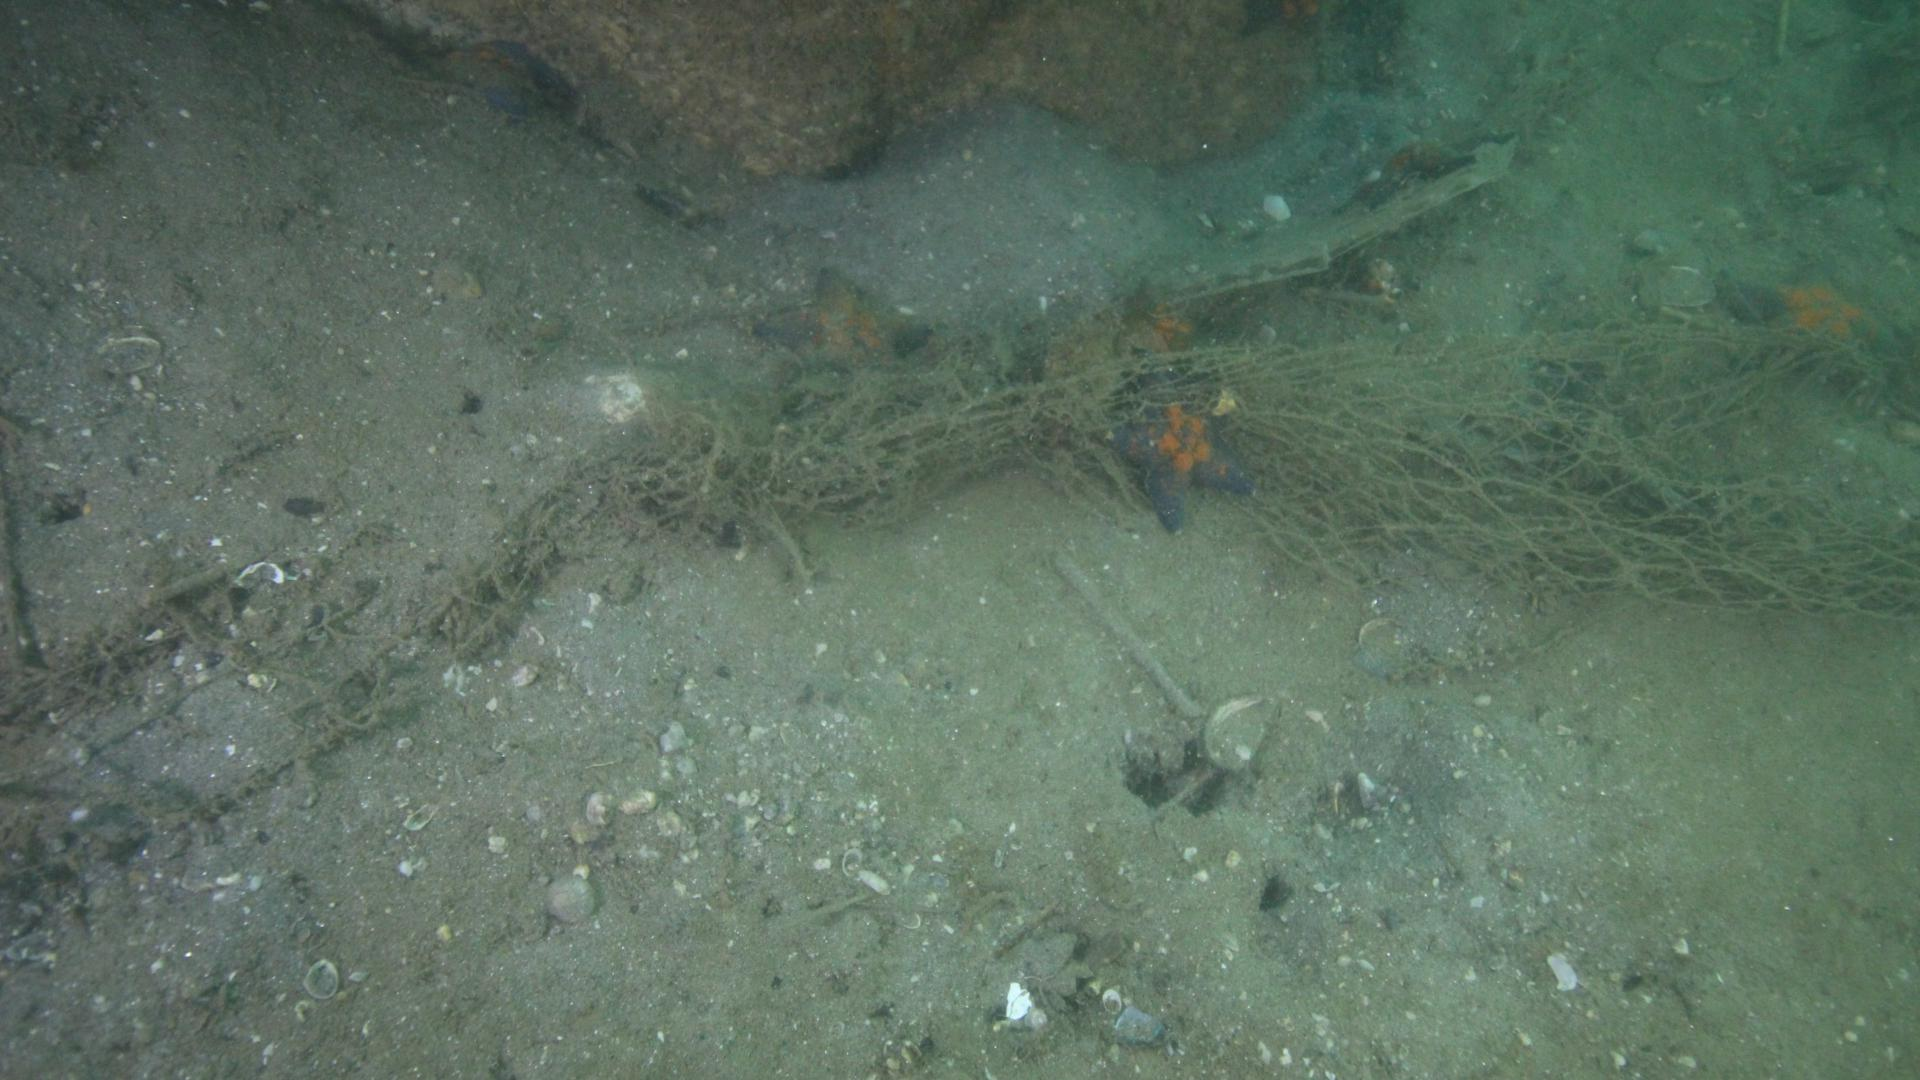fish net: (1255, 407, 1920, 618)
